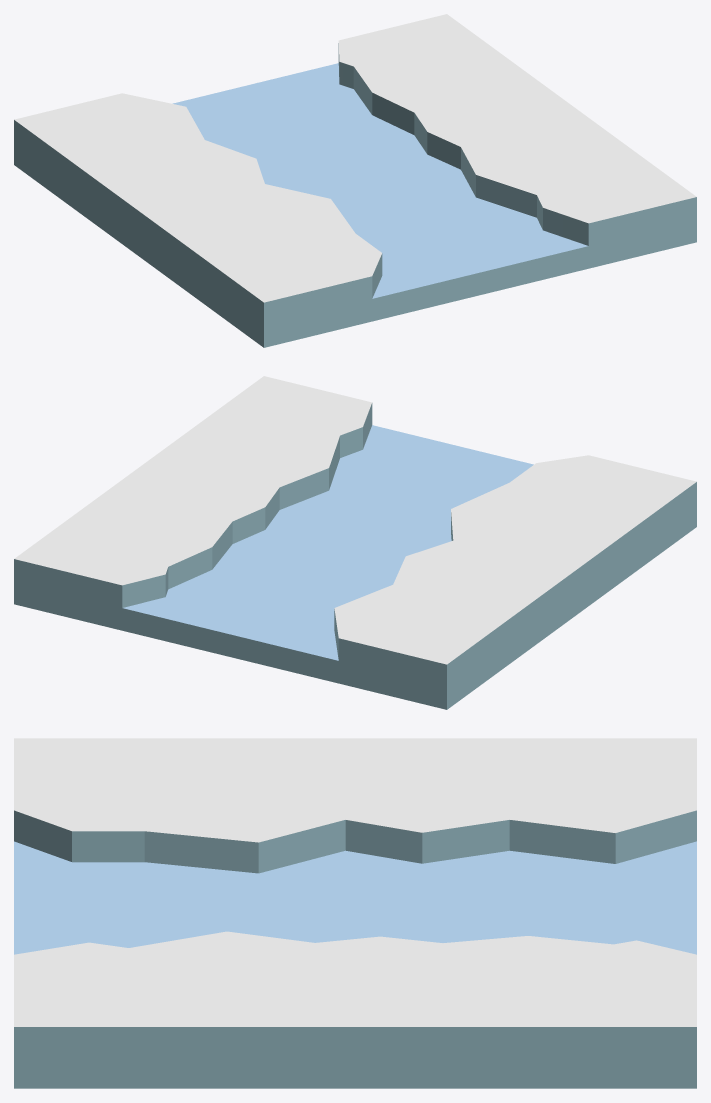
Rendered from Terrain_Modular_Tiles_Snow_Ice_River_Straight_02.fbx.
3 renders of one model, top to bottom at view 1: azimuth 30°, elevation 25°; view 2: azimuth 150°, elevation 25°; view 3: azimuth 270°, elevation 25°, orthographic. The views are drawn at different scales.
Visible parts, largest first — view 1: Terrain_Modular_Tiles_Snow_Ice_River_Straight_02; view 2: Terrain_Modular_Tiles_Snow_Ice_River_Straight_02; view 3: Terrain_Modular_Tiles_Snow_Ice_River_Straight_02.
Boxes of the visible parts, x1,y1,x2,y2 form: Terrain_Modular_Tiles_Snow_Ice_River_Straight_02: [14, 14, 696, 347]; Terrain_Modular_Tiles_Snow_Ice_River_Straight_02: [14, 376, 696, 709]; Terrain_Modular_Tiles_Snow_Ice_River_Straight_02: [14, 738, 696, 1088].
Bounding box in the file's own units: 118 × 11.81 × 118.
